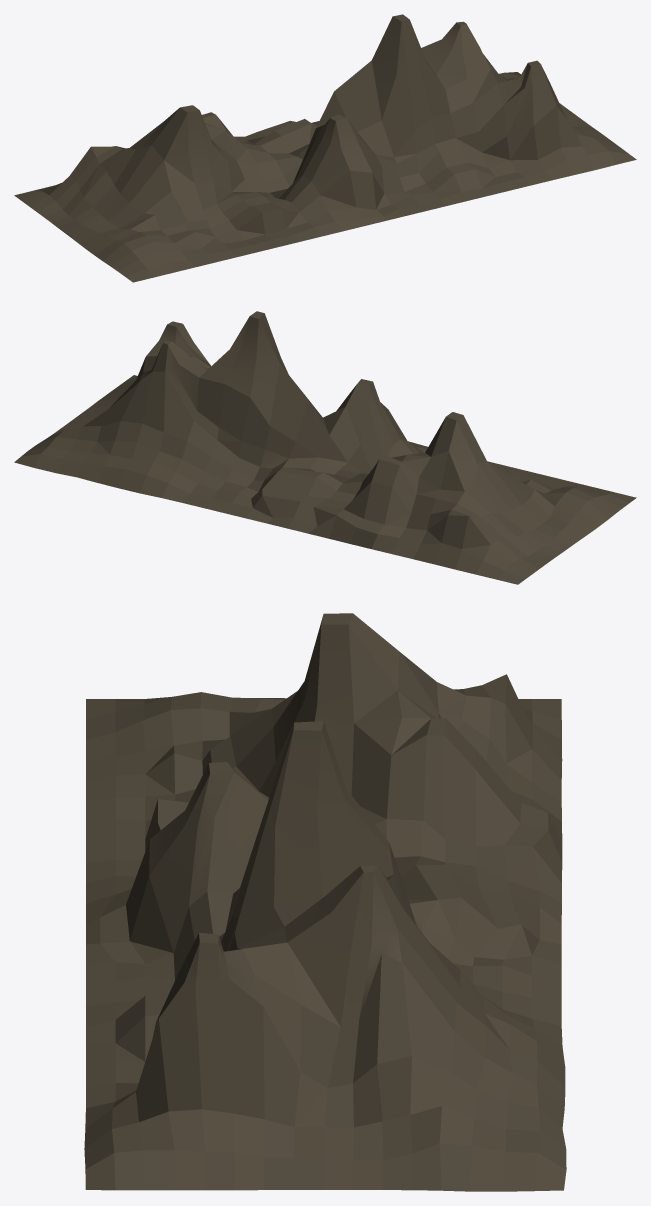
The model's file is SF_Env_BackgroundHills_03.fbx.
3 views of the same model, one above another, from view 1: azimuth 30°, elevation 25°; view 2: azimuth 150°, elevation 25°; view 3: azimuth 270°, elevation 25° (orthographic). The views are drawn at different scales.
Visible parts, largest first — view 1: SF_Env_BackgroundHills_03; view 2: SF_Env_BackgroundHills_03; view 3: SF_Env_BackgroundHills_03.
Part boxes in pixels (box(x1,y1,x2,y2)): SF_Env_BackgroundHills_03: box(14, 14, 636, 282); SF_Env_BackgroundHills_03: box(14, 311, 636, 584); SF_Env_BackgroundHills_03: box(84, 613, 566, 1191).
Bounding box in the file's own units: 207 × 56.51 × 85.41.
